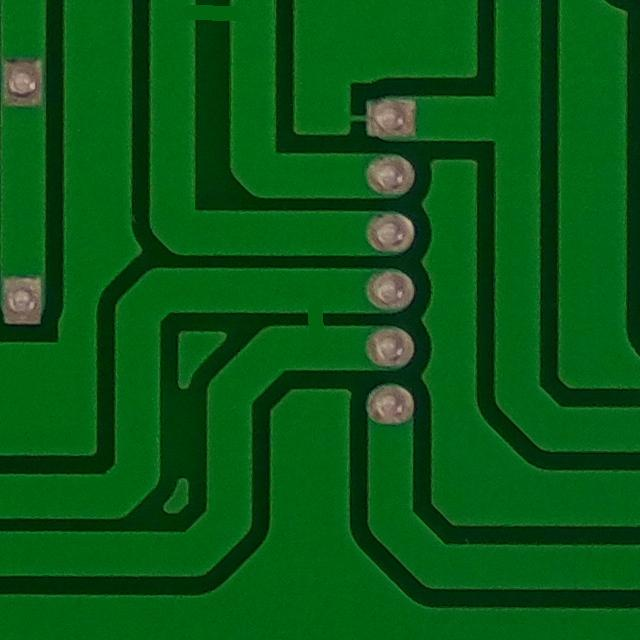short: (268, 257, 373, 384)
